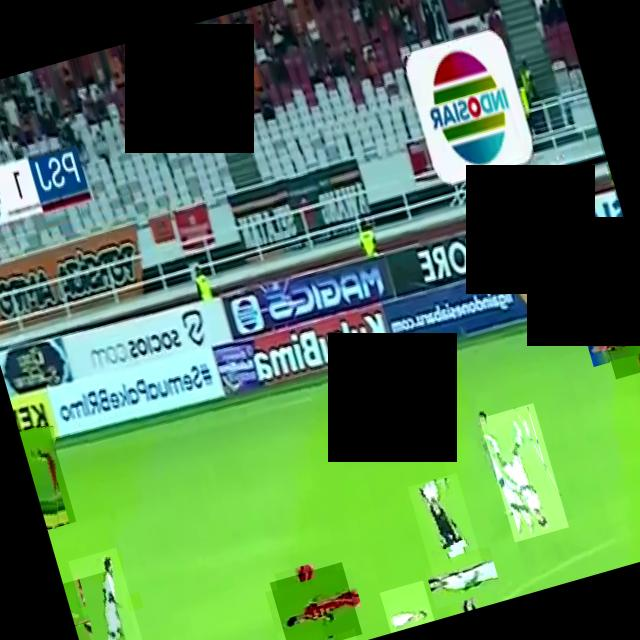referee: (408, 472, 484, 584)
soccer-player: (479, 402, 568, 542), (67, 547, 150, 640), (269, 561, 362, 640), (18, 421, 76, 529), (428, 542, 497, 611), (62, 570, 125, 640), (596, 296, 640, 379), (379, 580, 434, 632)
